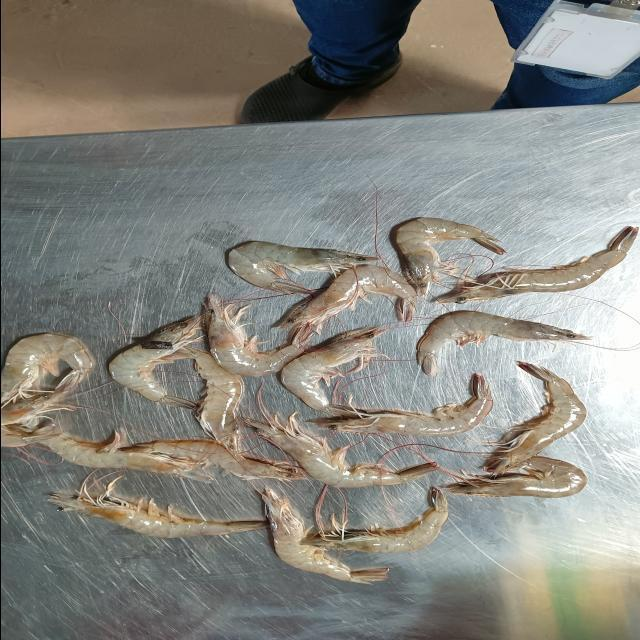shrimp: (436, 226, 638, 304), (244, 414, 436, 488), (47, 478, 268, 538), (259, 488, 388, 584), (0, 425, 211, 482), (308, 374, 492, 438), (481, 361, 585, 474), (416, 310, 589, 376), (279, 328, 385, 418), (301, 488, 447, 552), (277, 265, 416, 329), (204, 294, 312, 376), (109, 316, 202, 409), (394, 218, 505, 295), (226, 241, 379, 294), (118, 440, 306, 480), (175, 346, 244, 452), (0, 332, 93, 405), (441, 456, 587, 498), (0, 392, 73, 446)
